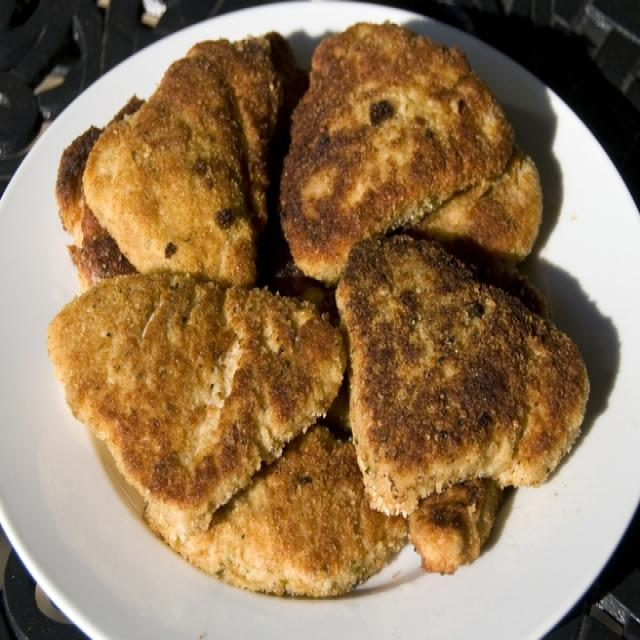鸡肉料理 含炸鸡: (17, 9, 630, 628)
